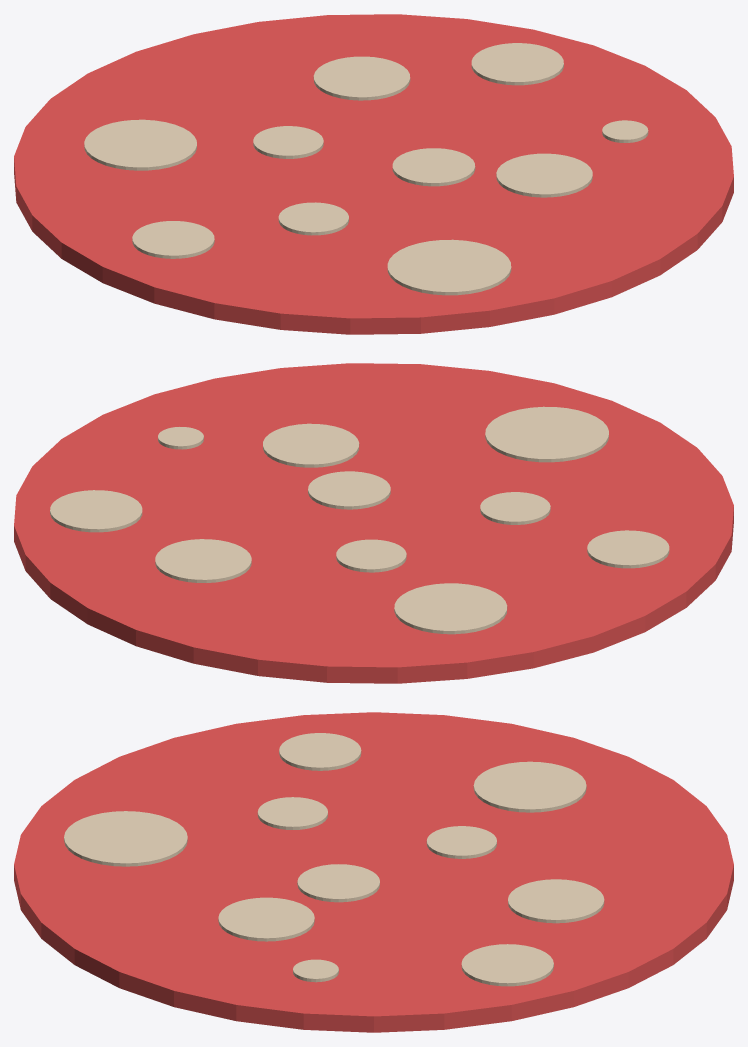
Rendered from metukka.fbx.
The picture shows the model from 3 angles, top to bottom: view 1: azimuth 30°, elevation 25°; view 2: azimuth 150°, elevation 25°; view 3: azimuth 270°, elevation 25°; orthographic projection.
Visible parts, largest first — view 1: Cylinder; view 2: Cylinder; view 3: Cylinder.
Boxes of the visible parts, box(x1,y1,x2,y2) form: Cylinder: box(14, 14, 733, 334); Cylinder: box(14, 363, 733, 683); Cylinder: box(14, 712, 733, 1032).
Size of the model in its own units: 200 by 7.01 by 200.
